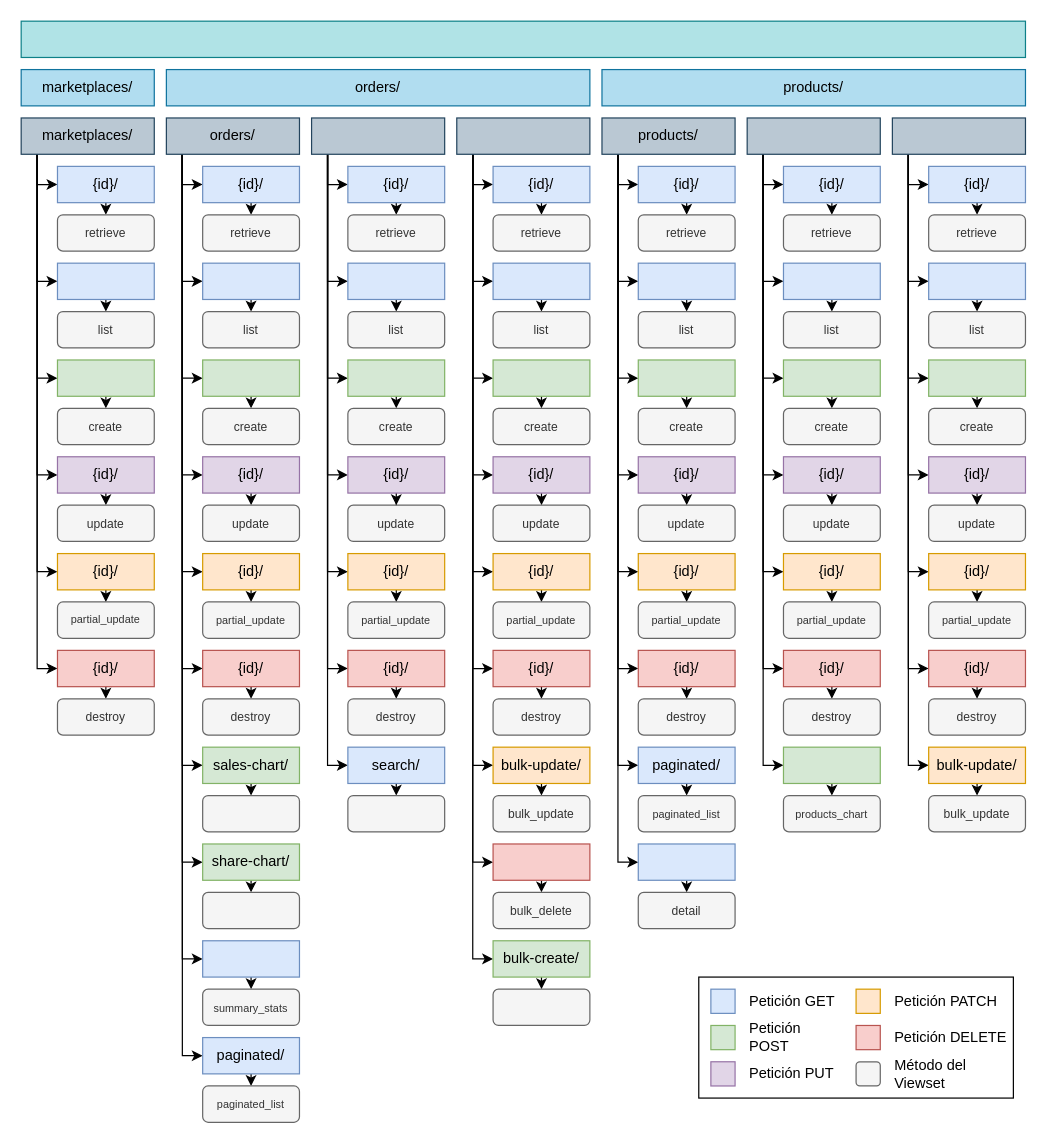
This 1047x1143 diagram has some shape labels left out. Here are the shapes that lost their labels. From the top down, the centre of each, then its label:
the point at 522,38: http://mpmanager.com/api/
the point at 377,135: customers/
the point at 523,135: oirderitems/
the point at 813,135: marketplace-products/
the point at 958,135: product-attributes/
the point at 831,764: products-chart/
the point at 250,813: sales_chart
the point at 396,813: search
the point at 541,861: bulk-delete/
the point at 686,861: detail/
the point at 250,910: share_chart
the point at 250,958: summary-stats/
the point at 541,1006: bulk_create
